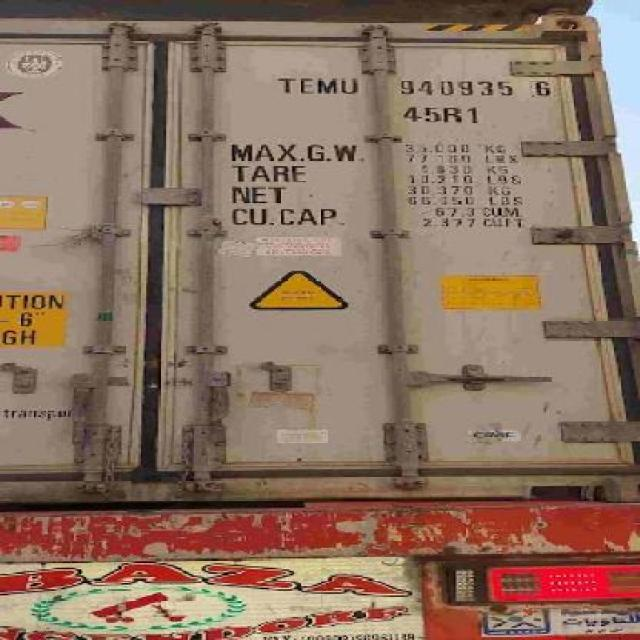ISO: (401, 103, 482, 126)
container_number: (272, 76, 562, 96)
